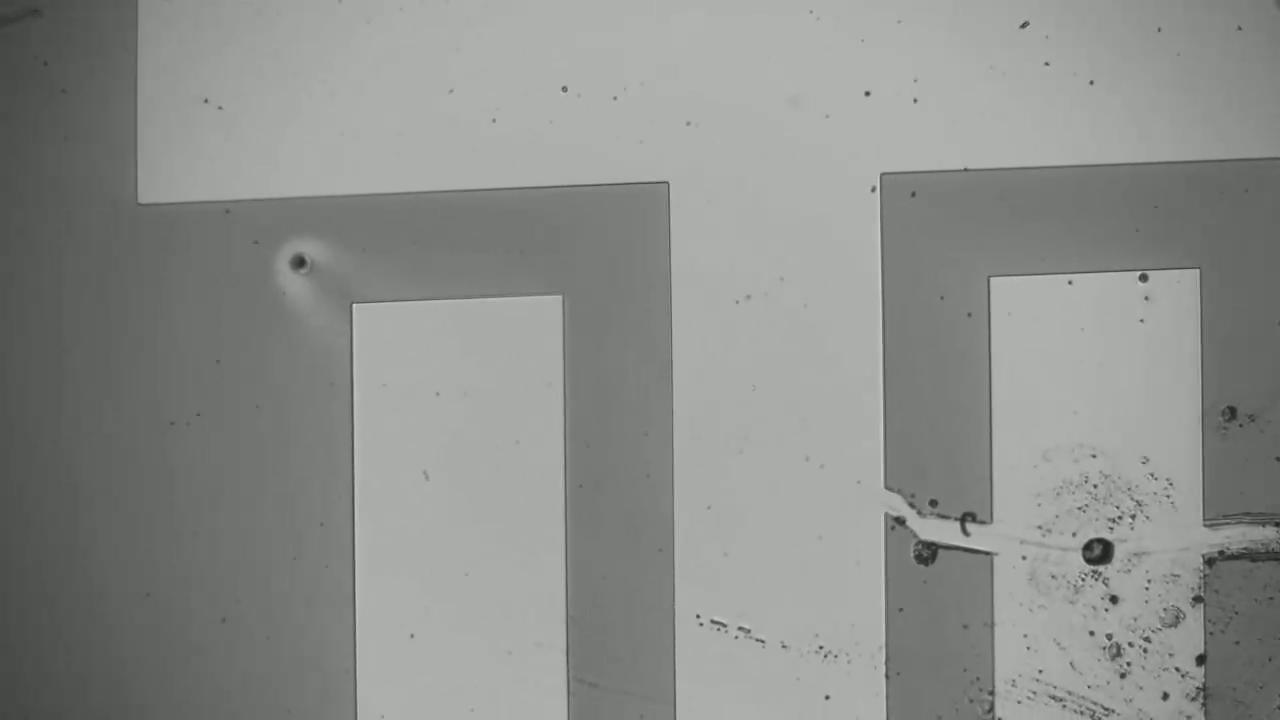Short_circuit: (861, 464, 1014, 571), (1175, 498, 1280, 579)
